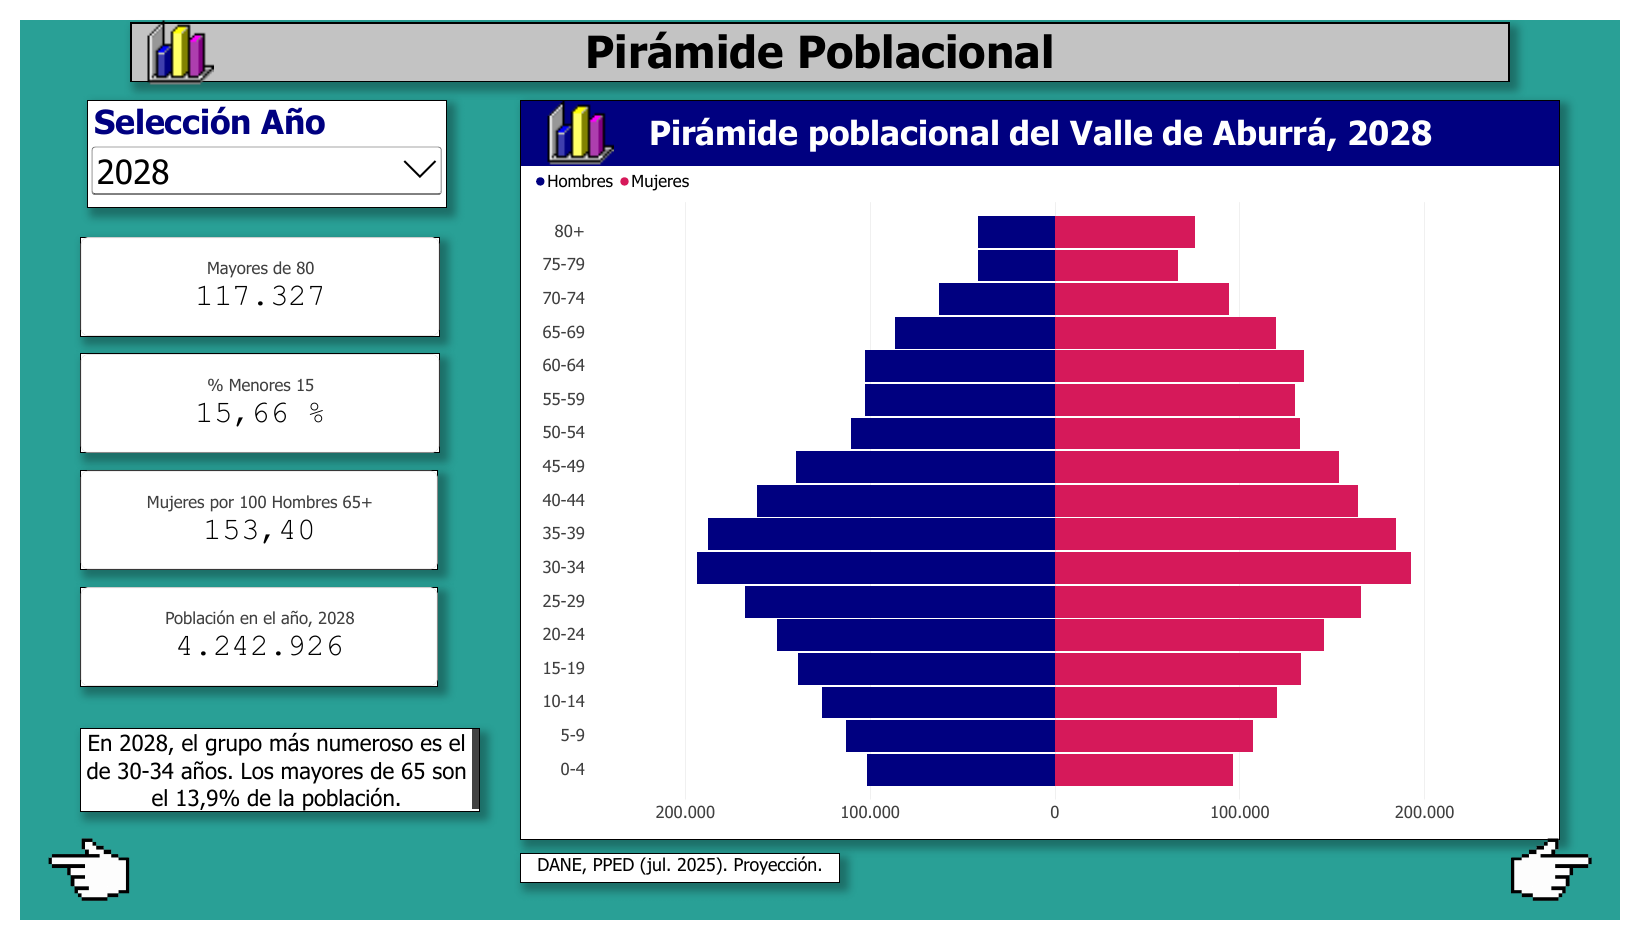

The page's visual inventory and layout, read from the dashboard file:
{"tool":"powerbi","page":{"name":"Pirámide Poblacional","canvas":[1920,1080],"ordinal":1},"visuals":[{"type":"barChart","fields":{"Category":["vda_envejecimiento poblacion.Grupo Edad"],"Y":["Medidas.Hombres","Medidas.Mujeres"]},"box":[600,96,1248,888],"z":0},{"type":"slicer","fields":{"Values":["Años.Value"]},"box":[80,96,432,130],"z":1000},{"type":"image","box":[0,960,170,120],"z":2000},{"type":"textbox","box":[132,3,1656,72],"z":4000},{"type":"cardVisual","fields":{"Data":["Medidas.Pob 80+"]},"box":[72,260,432,120],"z":6000},{"type":"cardVisual","fields":{"Data":["Medidas.% Menores 15"]},"box":[72,400,432,120],"z":7000},{"type":"textbox","box":[72,850,480,100],"z":8000},{"type":"image","box":[1752,960,168,120],"z":9000},{"type":"textbox","box":[600,1000,384,35],"z":10000},{"type":"cardVisual","fields":{"Data":["Medidas.Mujeres por 100 Hombres 65+"]},"box":[72,540,430,120],"z":11000},{"type":"image","box":[128,0,128,80],"z":11001},{"type":"image","box":[608,96,128,80],"z":11002},{"type":"cardVisual","fields":{"Data":["Medidas.Población"]},"box":[72,680,430,120],"z":11003}]}

Visuals, with their boxes in screenshot pixels (x1, y1, x2, y2), scaled from the page's 1920x1080 canvas onto the 1640x940 screenshot:
barChart - vda_envejecimiento poblacion.Grupo Edad x Medidas.Hombres: rect(512, 84, 1578, 856)
slicer - Años.Value: rect(68, 84, 437, 197)
image: rect(0, 836, 145, 939)
textbox: rect(113, 3, 1527, 65)
cardVisual - Medidas.Pob 80+: rect(62, 226, 430, 331)
cardVisual - Medidas.% Menores 15: rect(62, 348, 430, 453)
textbox: rect(62, 740, 472, 827)
image: rect(1496, 836, 1639, 939)
textbox: rect(512, 870, 840, 901)
cardVisual - Medidas.Mujeres por 100 Hombres 65+: rect(62, 470, 429, 574)
image: rect(109, 0, 219, 70)
image: rect(519, 84, 629, 153)
cardVisual - Medidas.Población: rect(62, 592, 429, 696)
